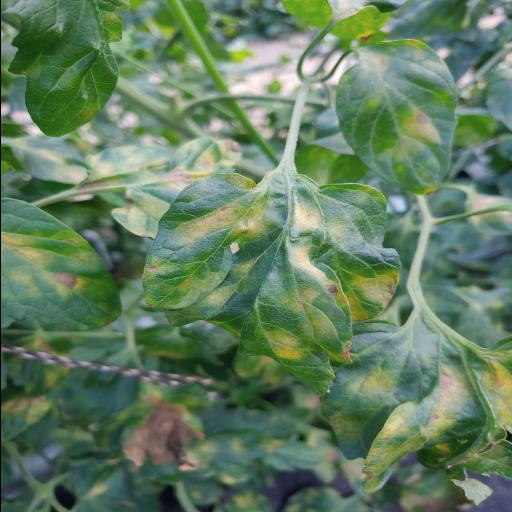Leaf Mold: (140, 172, 402, 396), (319, 318, 511, 496), (334, 40, 460, 196), (0, 197, 122, 330)
